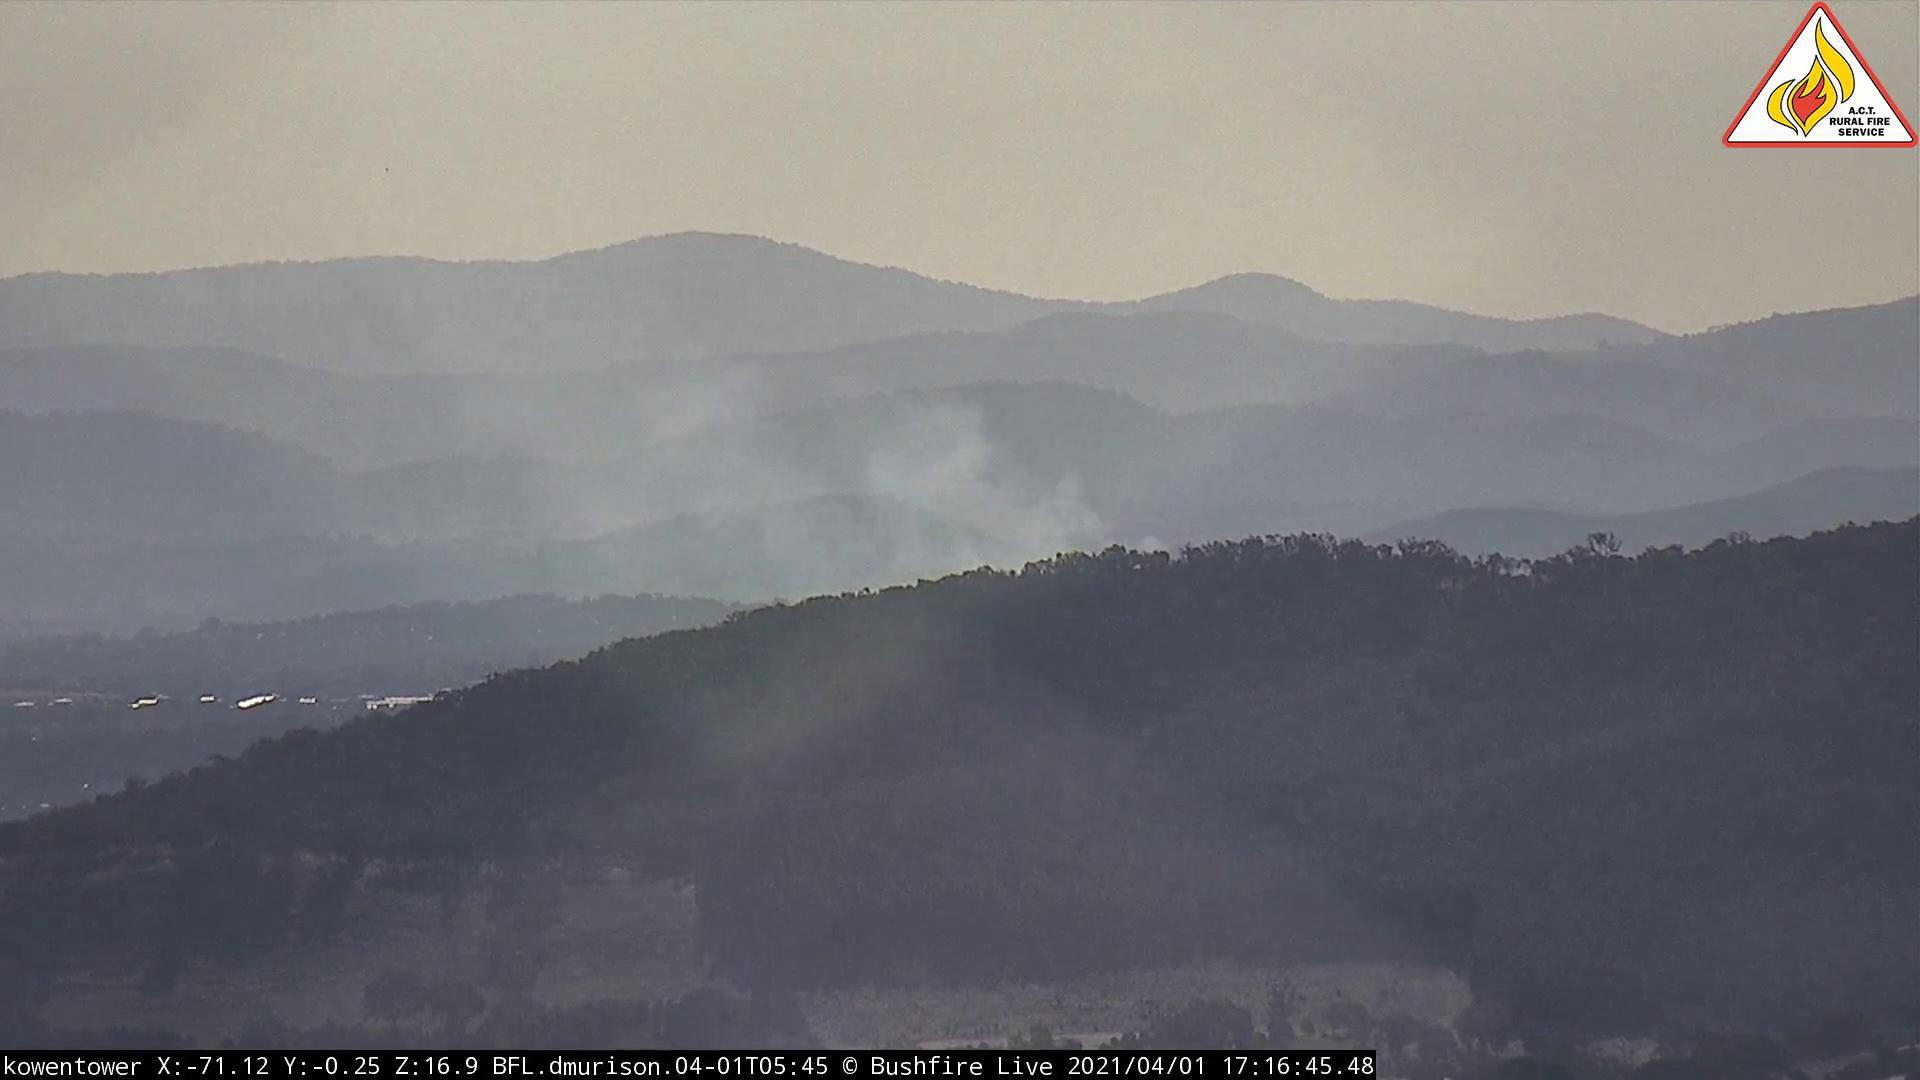Smoke: (436, 301, 1188, 647)
